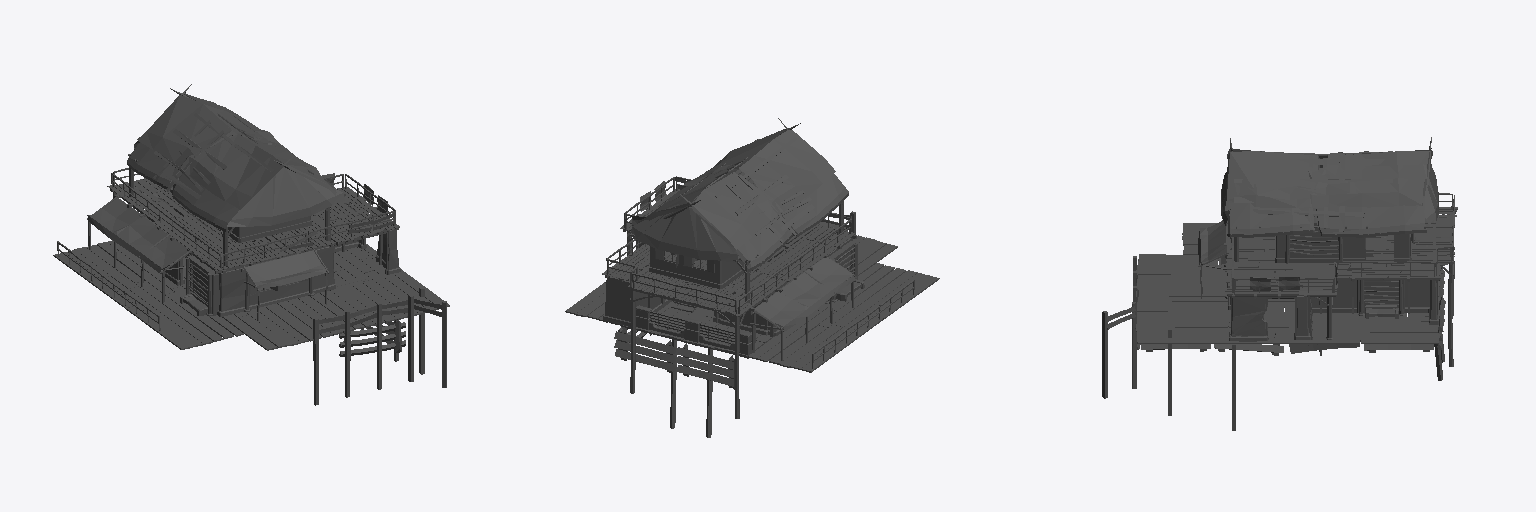
File: house.obj
3 views of the same model, side by side, from view 1: azimuth 30°, elevation 25°; view 2: azimuth 150°, elevation 25°; view 3: azimuth 270°, elevation 25° (orthographic).
Visible parts, largest first — view 1: 258752c4; view 2: 258752c4; view 3: 258752c4.
Part boxes in pixels (x1,y1,x2,y2): 258752c4: (53,84,449,405); 258752c4: (565,118,939,437); 258752c4: (1102,137,1457,430).
Size of the model in its own units: 4.14 by 3.76 by 5.18.